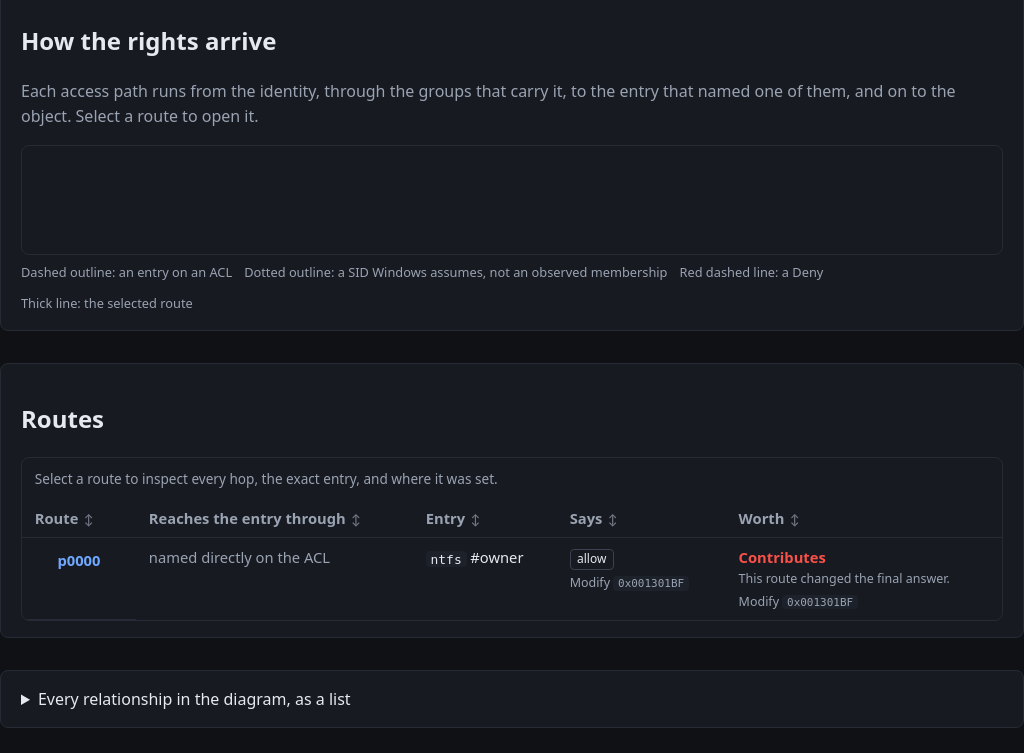
Test: the routes › says an ownership route has no entry, because no ACL viewer shows it
Click the button "p0000". click: (71, 560)
box: [35,546,107,574]
(page scrolled)
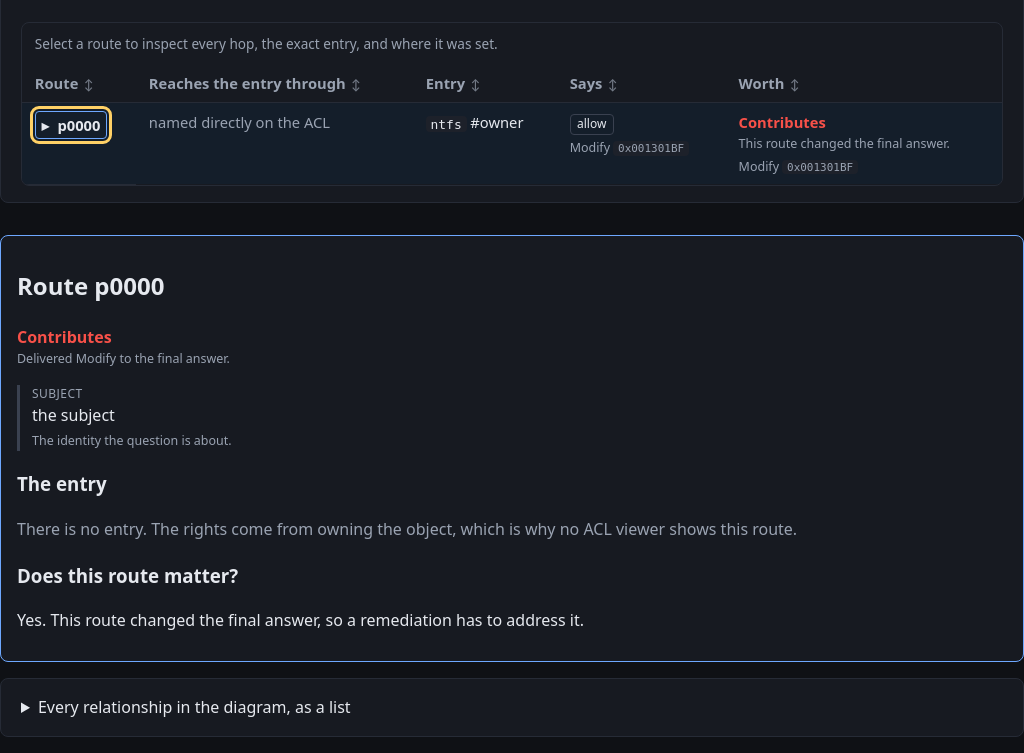
Expected: the text "rights come from owning the object" is shown, [17,518,797,540]
